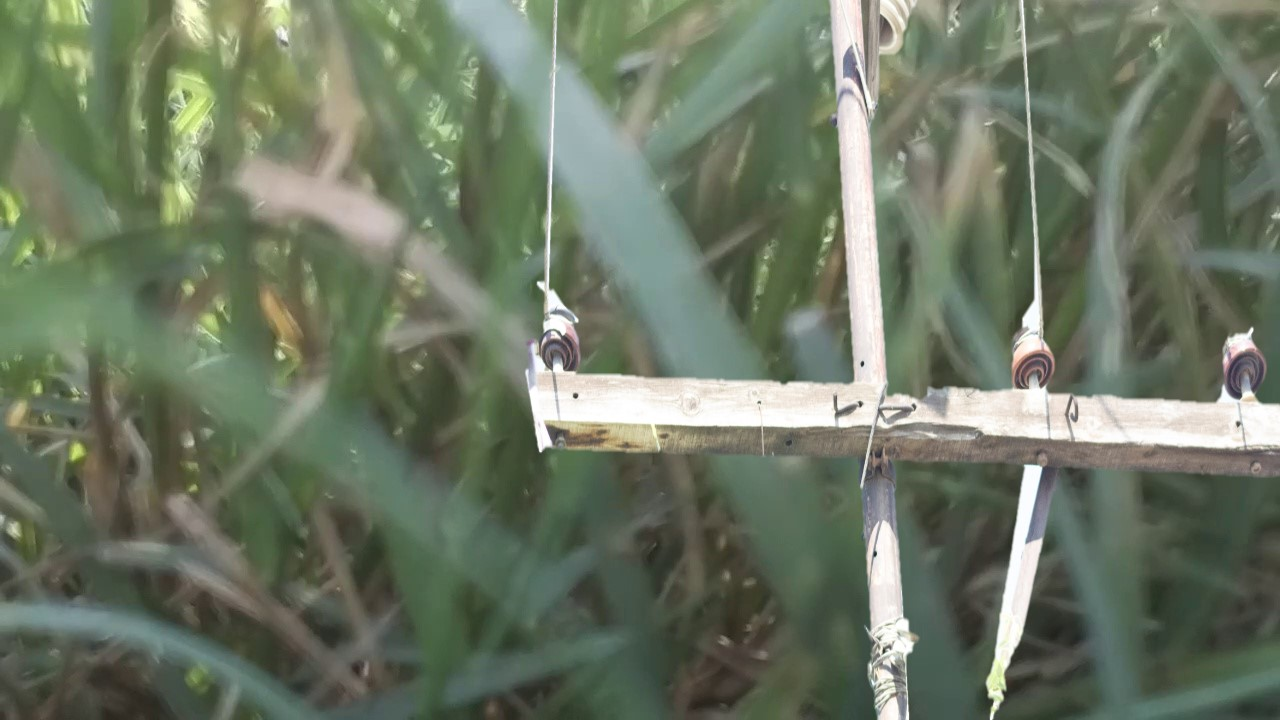defect_pin: (533, 307, 586, 373)
insulator_pin: (1214, 323, 1268, 399), (1006, 323, 1059, 385)
